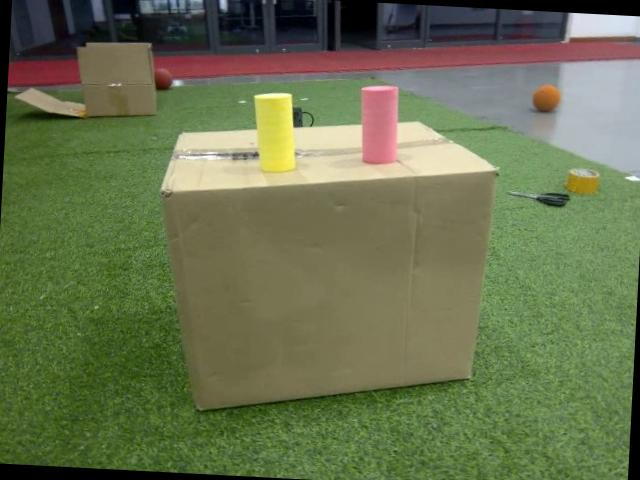orange_ball: (530, 82, 564, 115)
red_ball: (153, 66, 173, 91)
red_cylinder: (352, 82, 404, 168)
yellow_cylinder: (249, 90, 301, 176)
